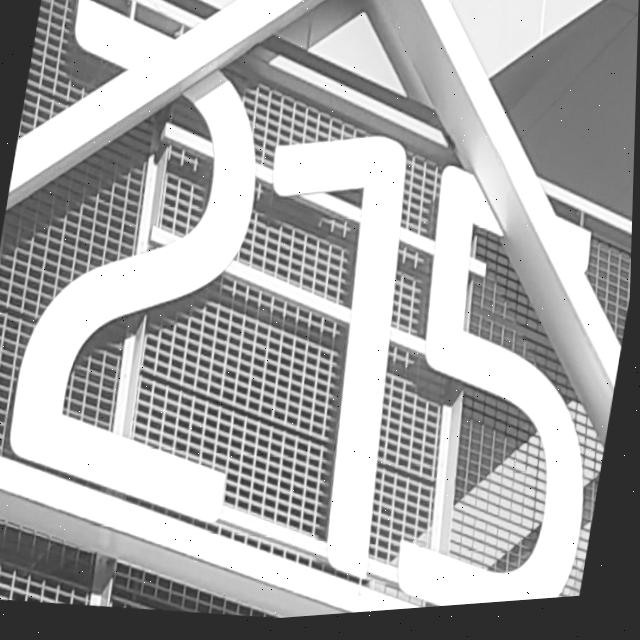character: (0, 0, 317, 556), (363, 146, 634, 612), (197, 113, 449, 607)
